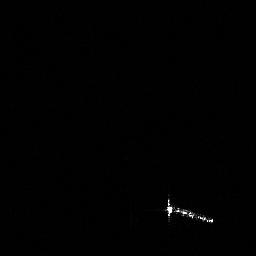ship: (160, 191, 217, 228)
